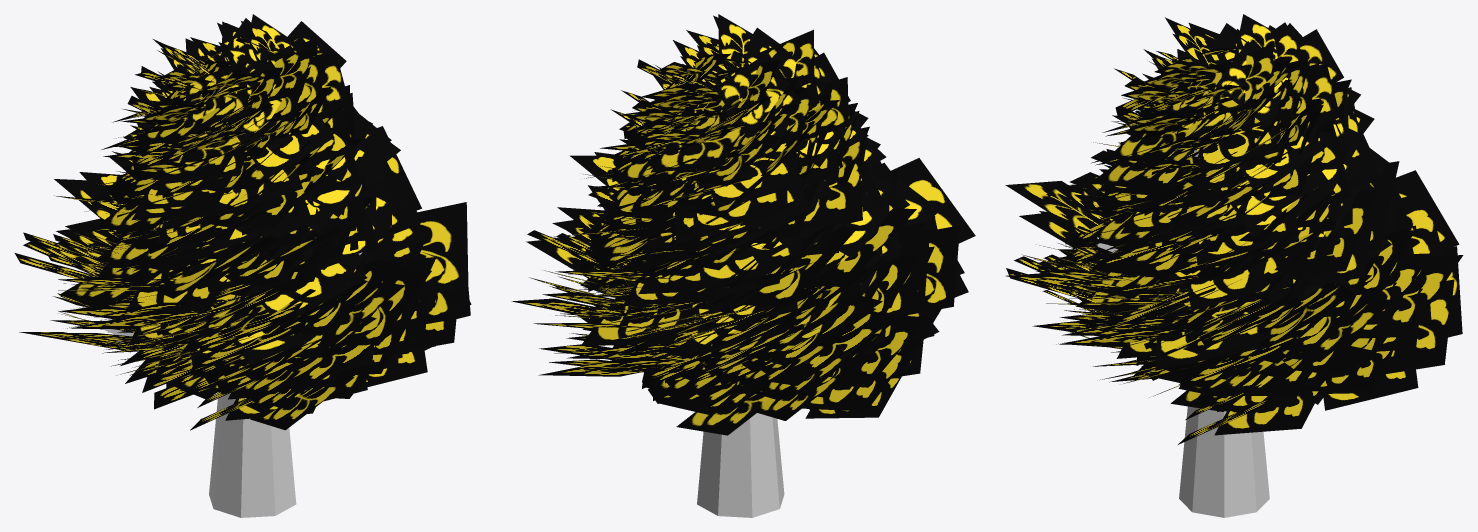
File: イチョウ.fbx
3 views of the same model, side by side, from view 1: azimuth 30°, elevation 25°; view 2: azimuth 150°, elevation 25°; view 3: azimuth 270°, elevation 25° (orthographic).
Parts seen in each view (by area): view 1: 平面, 円柱; view 2: 平面, 円柱; view 3: 平面, 円柱.
Part boxes in pixels (left/top/right/bottom): 平面: left=14, top=14, right=471, bottom=430; 円柱: left=101, top=252, right=362, bottom=517; 平面: left=511, top=14, right=975, bottom=435; 円柱: left=594, top=294, right=784, bottom=517; 平面: left=1005, top=14, right=1463, bottom=444; 円柱: left=1096, top=150, right=1269, bottom=517.
Size of the model in its own units: 981 by 1118 by 1010.
